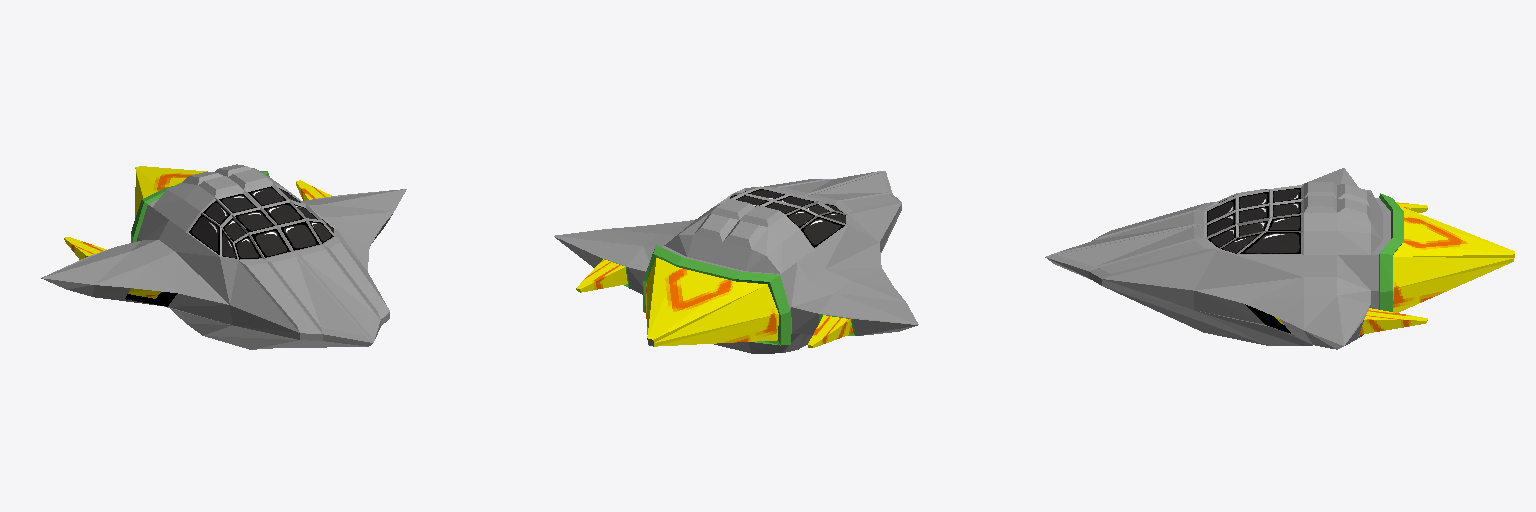
The picture shows the model from 3 angles: view 1: azimuth 30°, elevation 25°; view 2: azimuth 150°, elevation 25°; view 3: azimuth 270°, elevation 25°; orthographic projection.
Visible parts, largest first — view 1: Cube; view 2: Cube; view 3: Cube.
Boxes of the visible parts, box(x1,y1,x2,y2) form: Cube: box(41, 164, 406, 349); Cube: box(554, 171, 918, 353); Cube: box(1045, 168, 1514, 349).
Size of the model in its own units: 6.29 by 2.03 by 7.
2 materials, 1 textured.